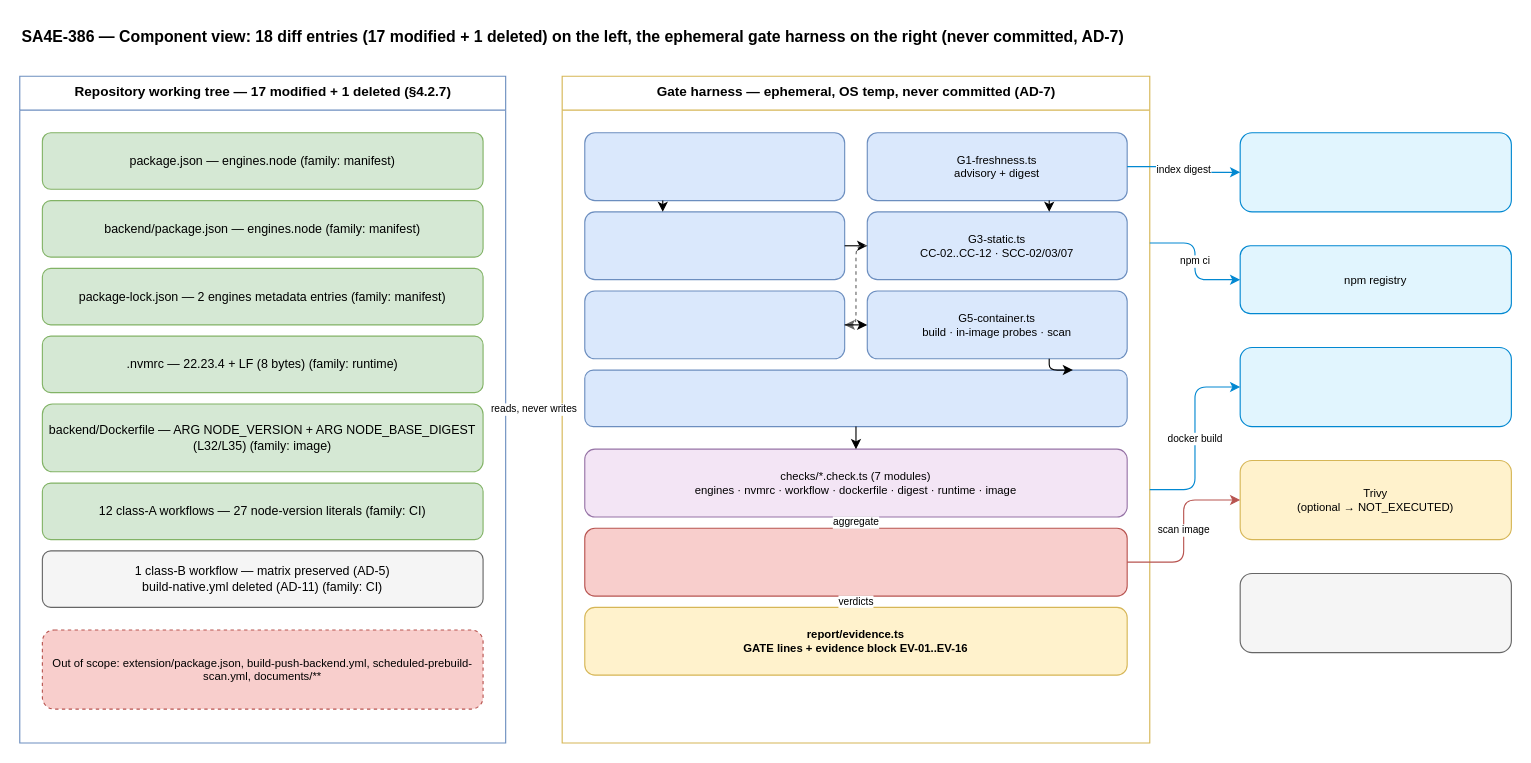
This 1531x763 diagram has some shape labels left out. The shapes that lost their labels are listed below. From the top down, each one's centre as x and y in pixels, then its label:
At point 714,166: "G0-preconditions.ts tree SHA · runtime · mode".
At point 1375,172: "Docker Hub registry".
At point 714,245: "G2-edit-completeness.ts census 28 keys / 18 diff entries".
At point 714,324: "G4-runtime.ts npm ci · build · node -v".
At point 855,398: "G6-scope.ts 18 entries · staged == changed · subject".
At point 1375,386: "Docker daemon + buildx".
At point 855,561: "claim/security-claim.ts AD-8 — M1 ∧ M2 ∧ M3 over two Trivy JSON reports".
At point 1375,612: "Host toolchain — prerequisite, not modified (nvm · node · git)".
